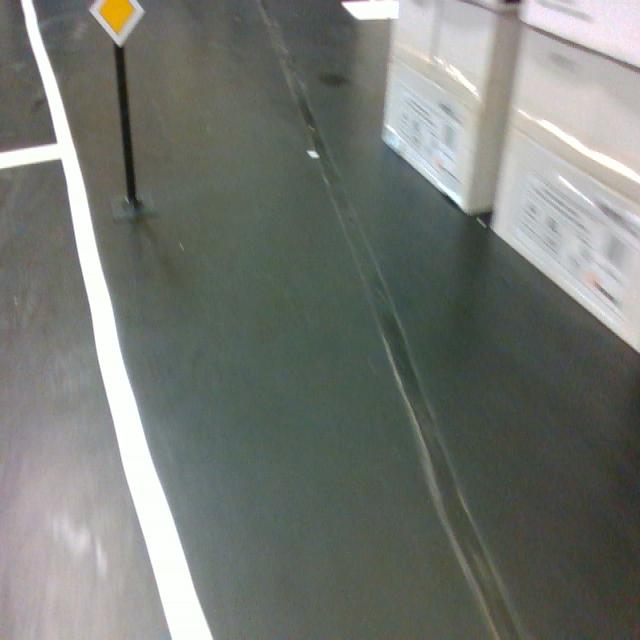priority-sign: (87, 0, 146, 49)
